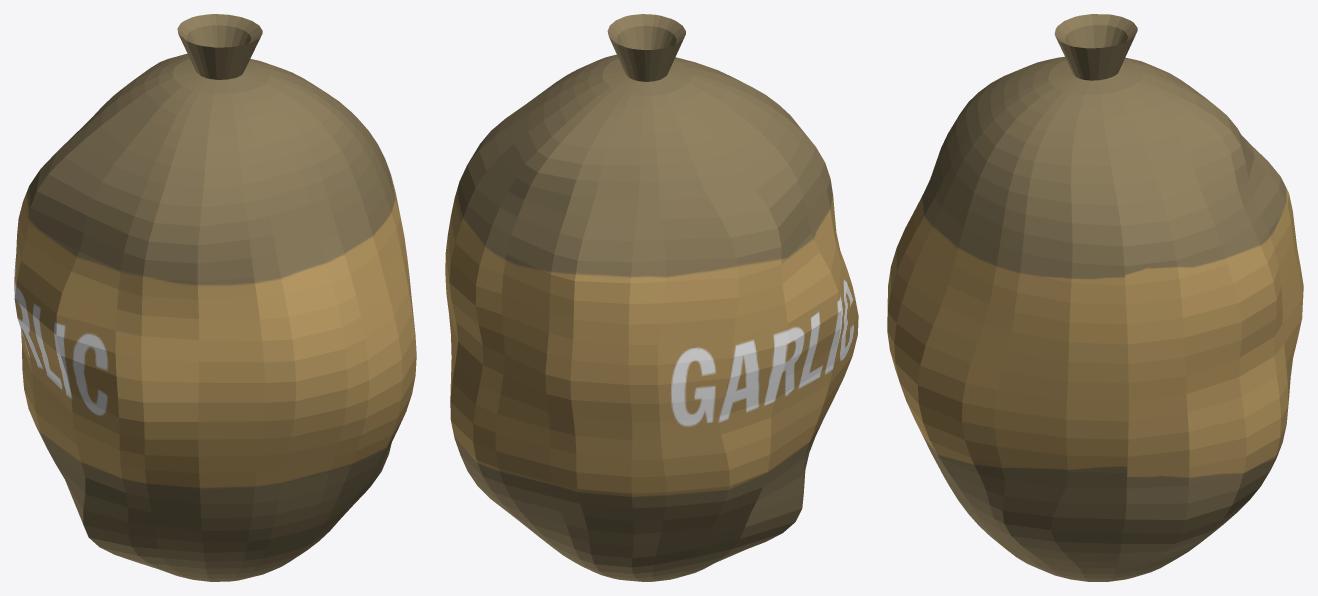
The model's file is SmallVeggieBag.obj.
The picture shows the model from 3 angles, left to right: view 1: azimuth 30°, elevation 25°; view 2: azimuth 150°, elevation 25°; view 3: azimuth 270°, elevation 25°; orthographic projection.
Bounding box in the file's own units: 2.76 × 4.05 × 2.83.
Materials: 1 (1 with a texture image).
